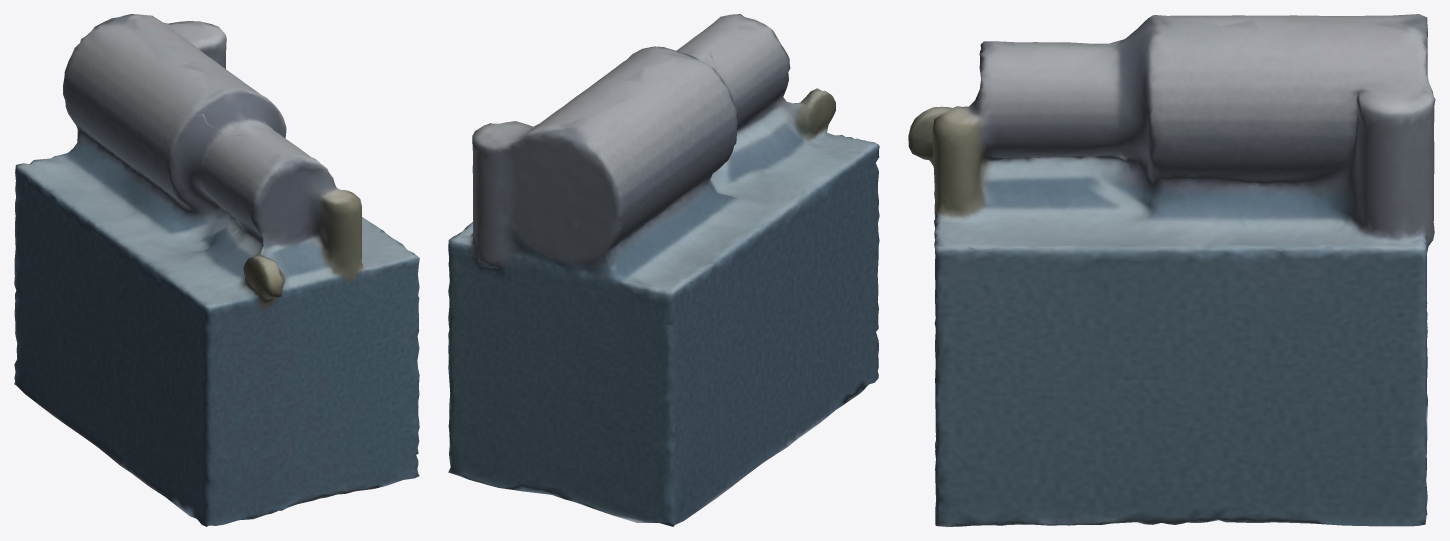
The model's file is machine.glb.
The picture shows the model from 3 angles, left to right: view 1: azimuth 30°, elevation 25°; view 2: azimuth 150°, elevation 25°; view 3: azimuth 270°, elevation 25°; orthographic projection. The views are drawn at different scales.
Parts seen in each view (by area): view 1: SKB_COMPONENT_001; view 2: SKB_COMPONENT_001; view 3: SKB_COMPONENT_001.
Boxes of the visible parts, x1,y1,x2,y2 form: SKB_COMPONENT_001: (14, 14, 419, 526); SKB_COMPONENT_001: (448, 14, 879, 526); SKB_COMPONENT_001: (908, 14, 1435, 526).
Size of the model in its own units: 0.3271 by 0.5221 by 0.5519.
Materials: 1 (1 with a texture image).
